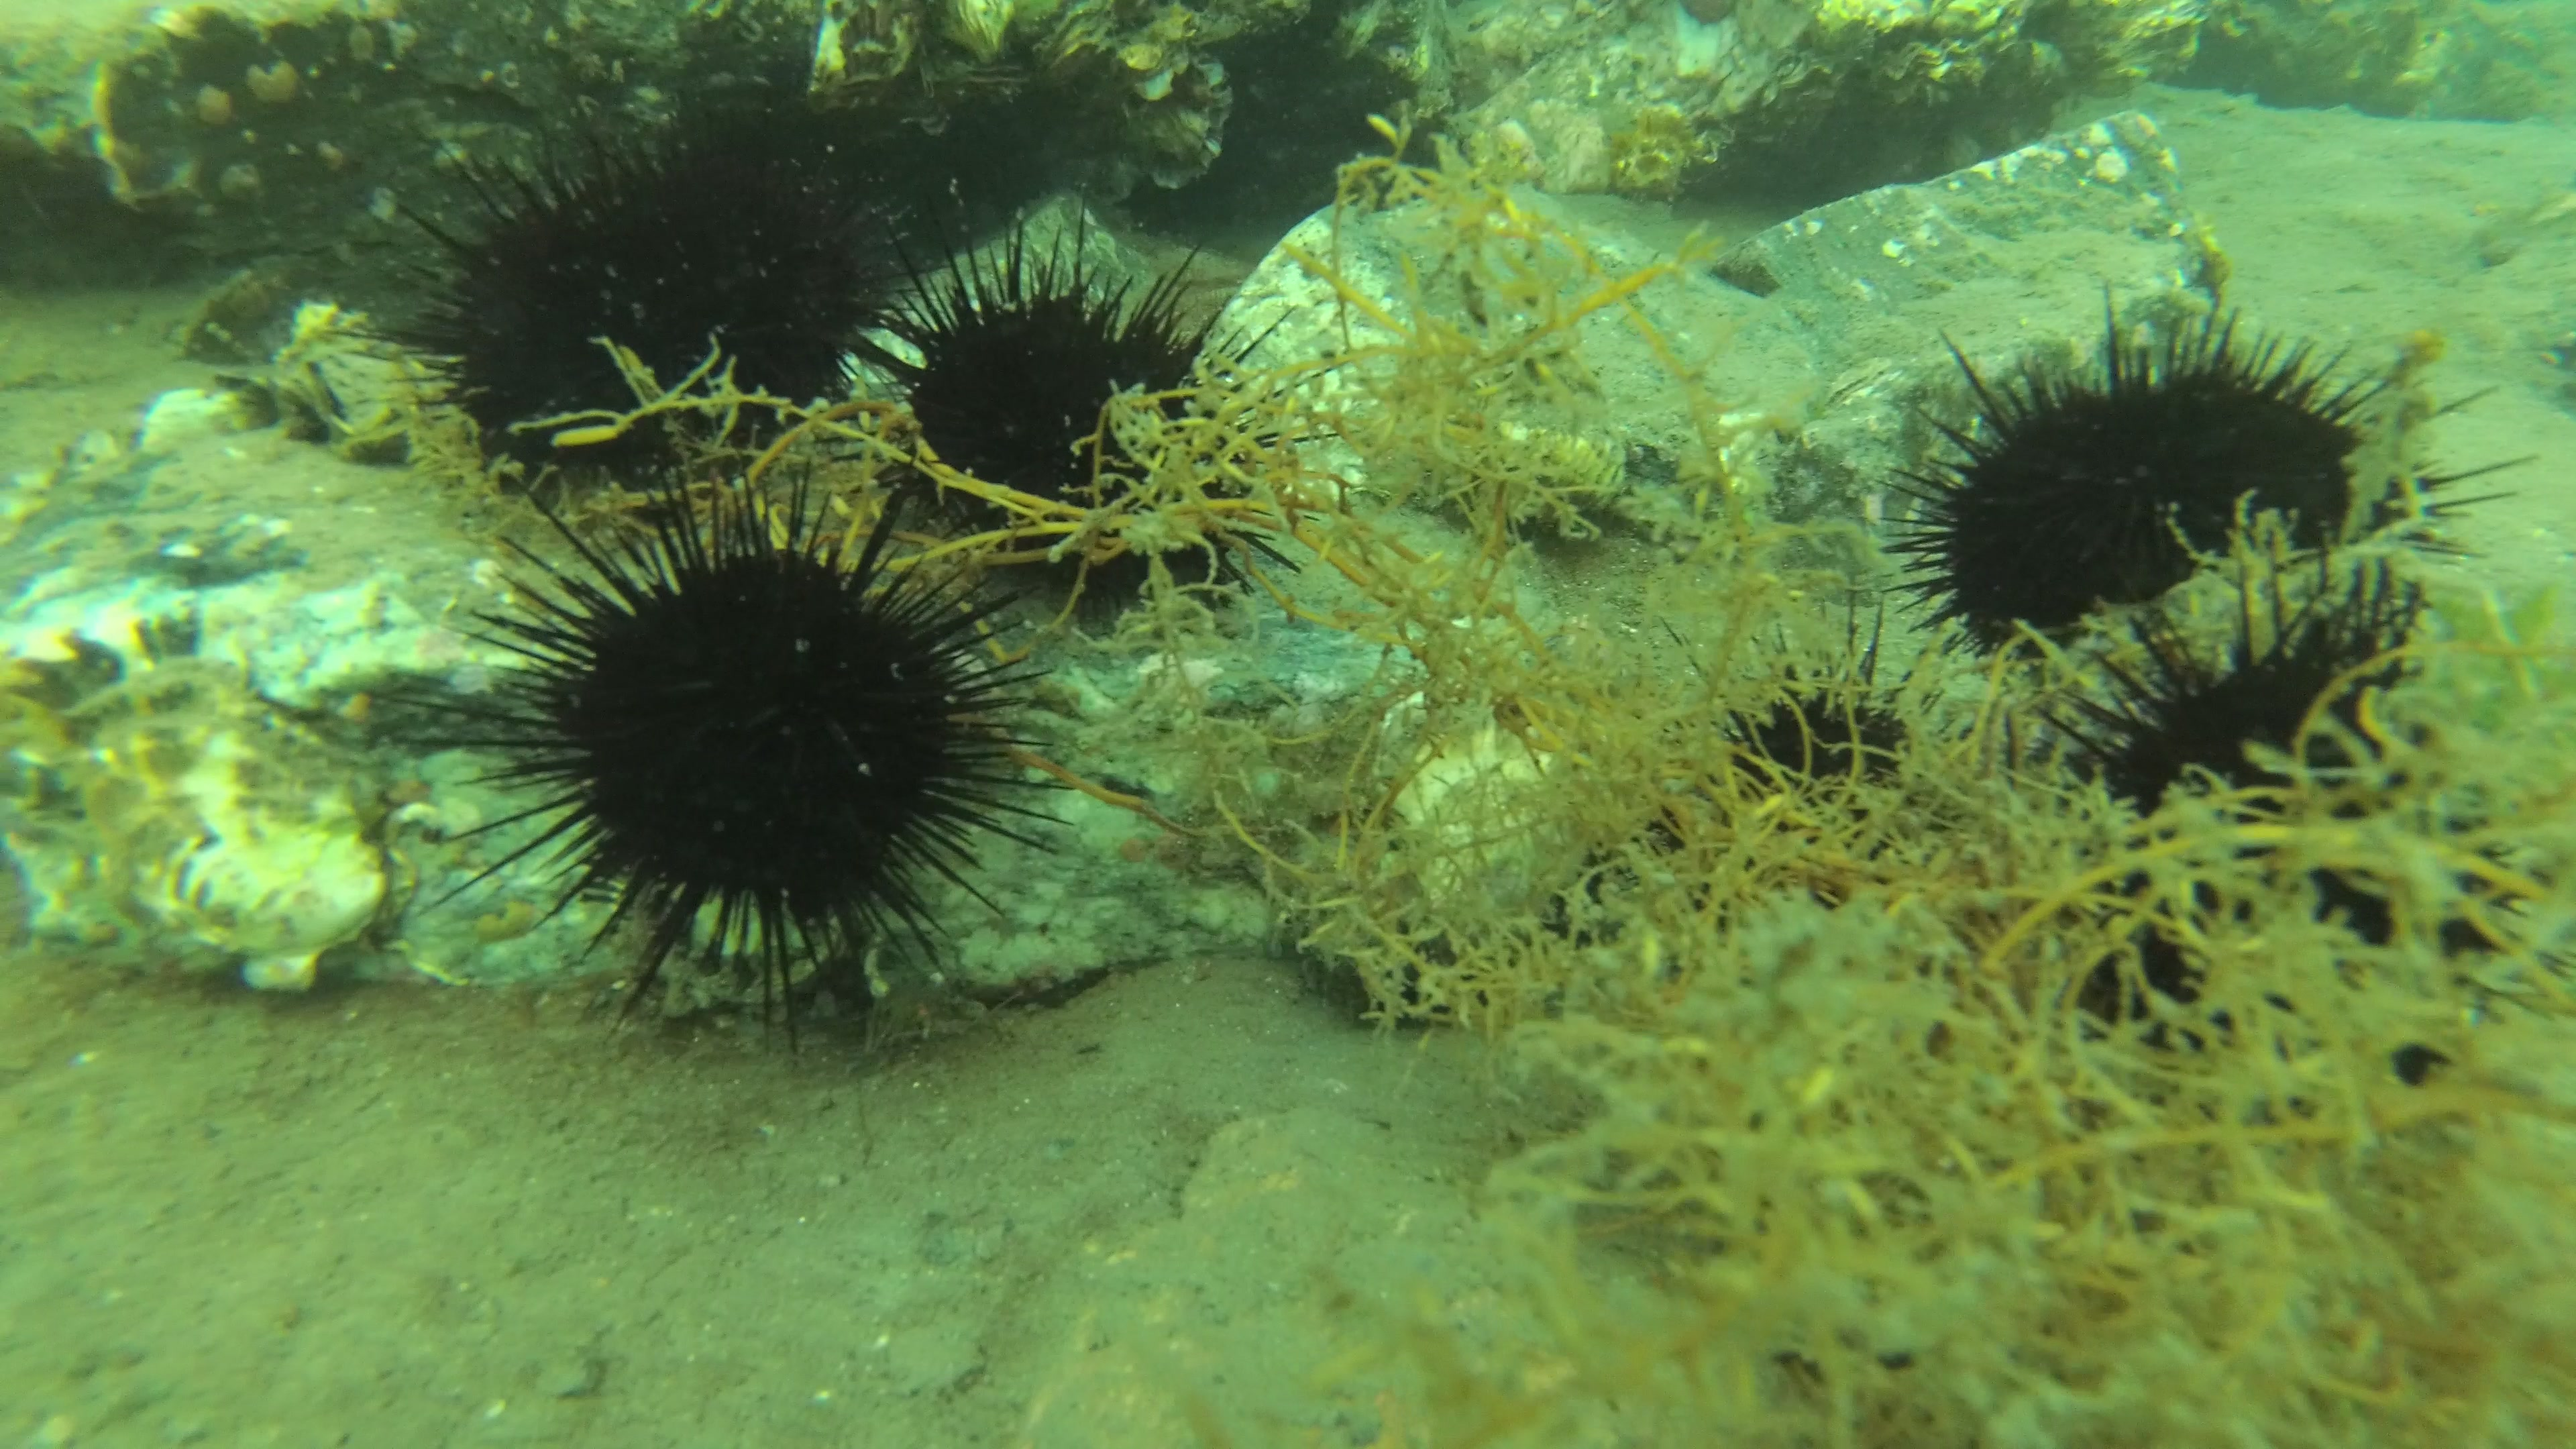echinus: (375, 444, 1100, 1058), (2003, 538, 2558, 1127), (1845, 276, 2553, 667), (354, 85, 918, 518), (832, 216, 1357, 626), (1615, 589, 1936, 816)
